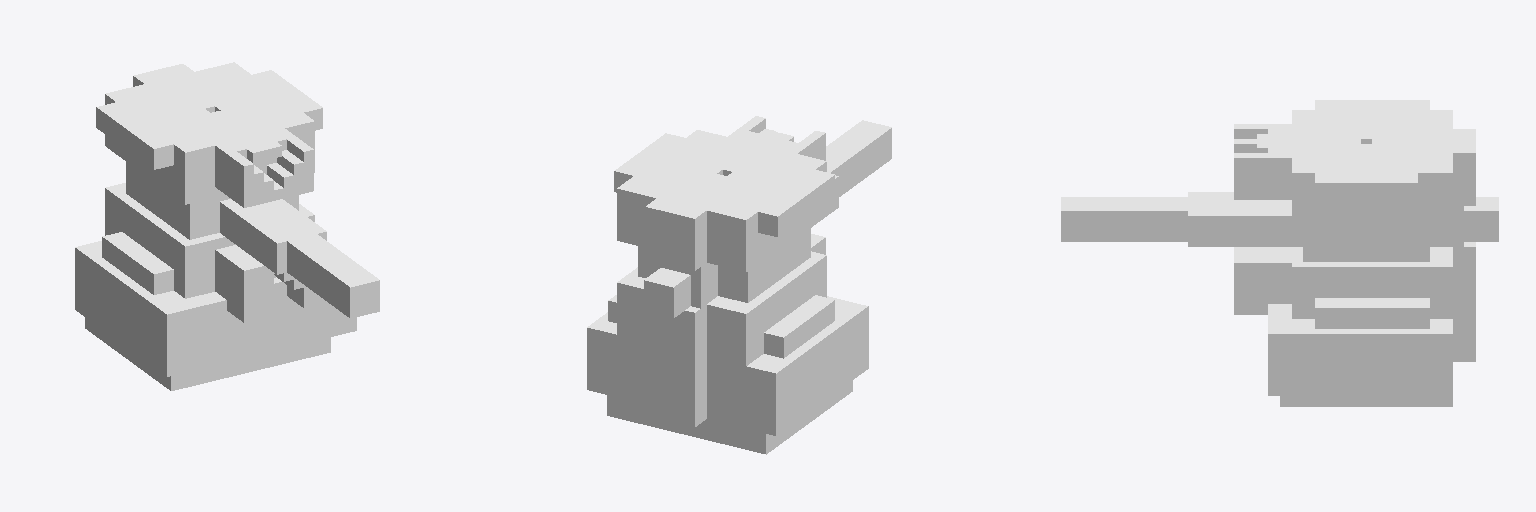
Rendered from CriticalTower0_Top.obj.
3 views of the same model, side by side, from view 1: azimuth 30°, elevation 25°; view 2: azimuth 150°, elevation 25°; view 3: azimuth 270°, elevation 25° (orthographic).
Visible parts, largest first — view 1: CriticalTower0_Top; view 2: CriticalTower0_Top; view 3: CriticalTower0_Top.
Part boxes in pixels (x1,y1,x2,y2): CriticalTower0_Top: (75,62,379,390); CriticalTower0_Top: (587,116,891,454); CriticalTower0_Top: (1061,100,1498,406).
Bounding box in the file's own units: 19 × 22 × 38.